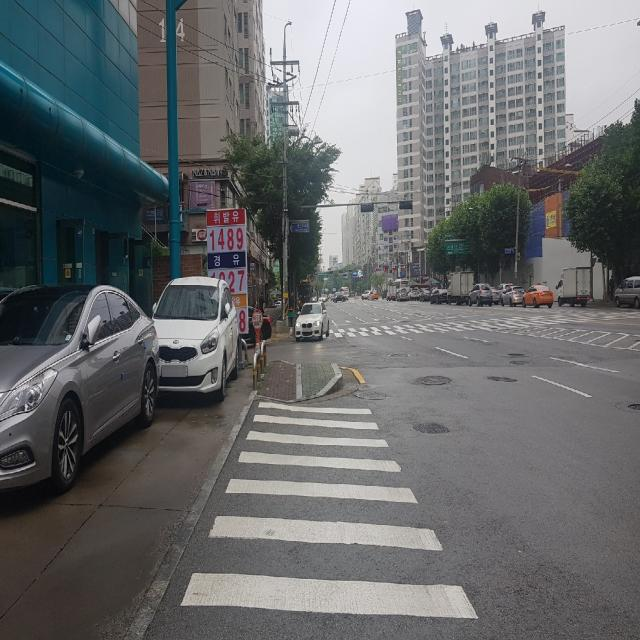횡단보도: (181, 400, 480, 624), (313, 313, 640, 337)
